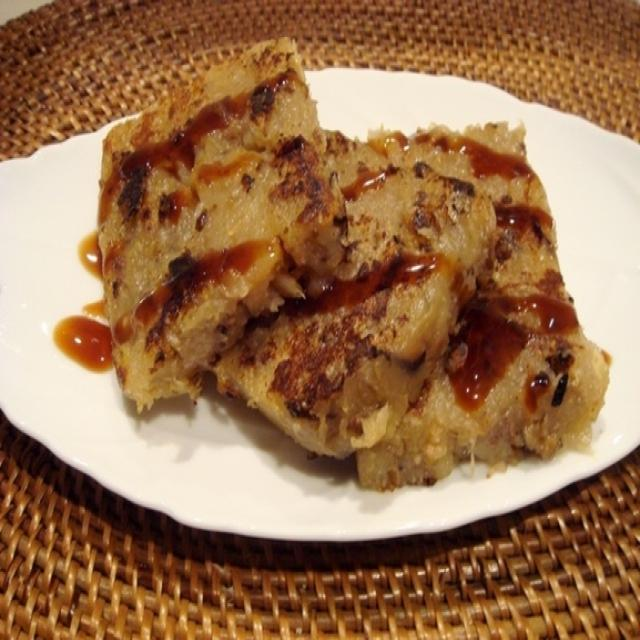蛋糕甜品: (3, 21, 638, 545)
